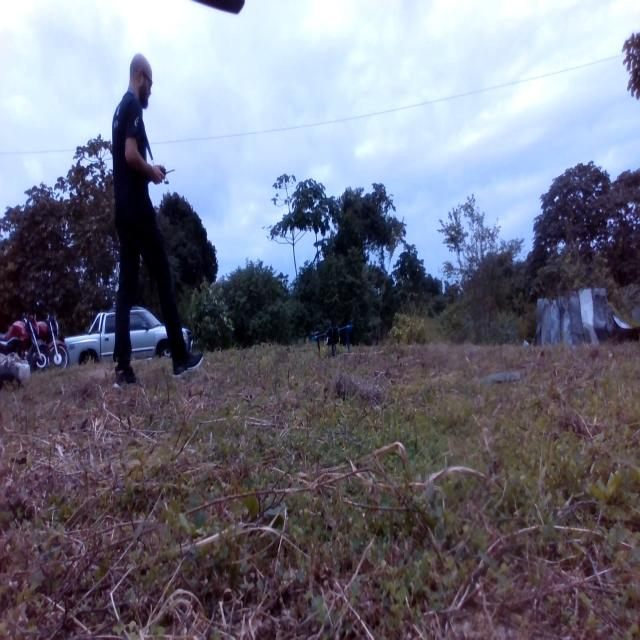-uav-: (311, 313, 357, 366)
